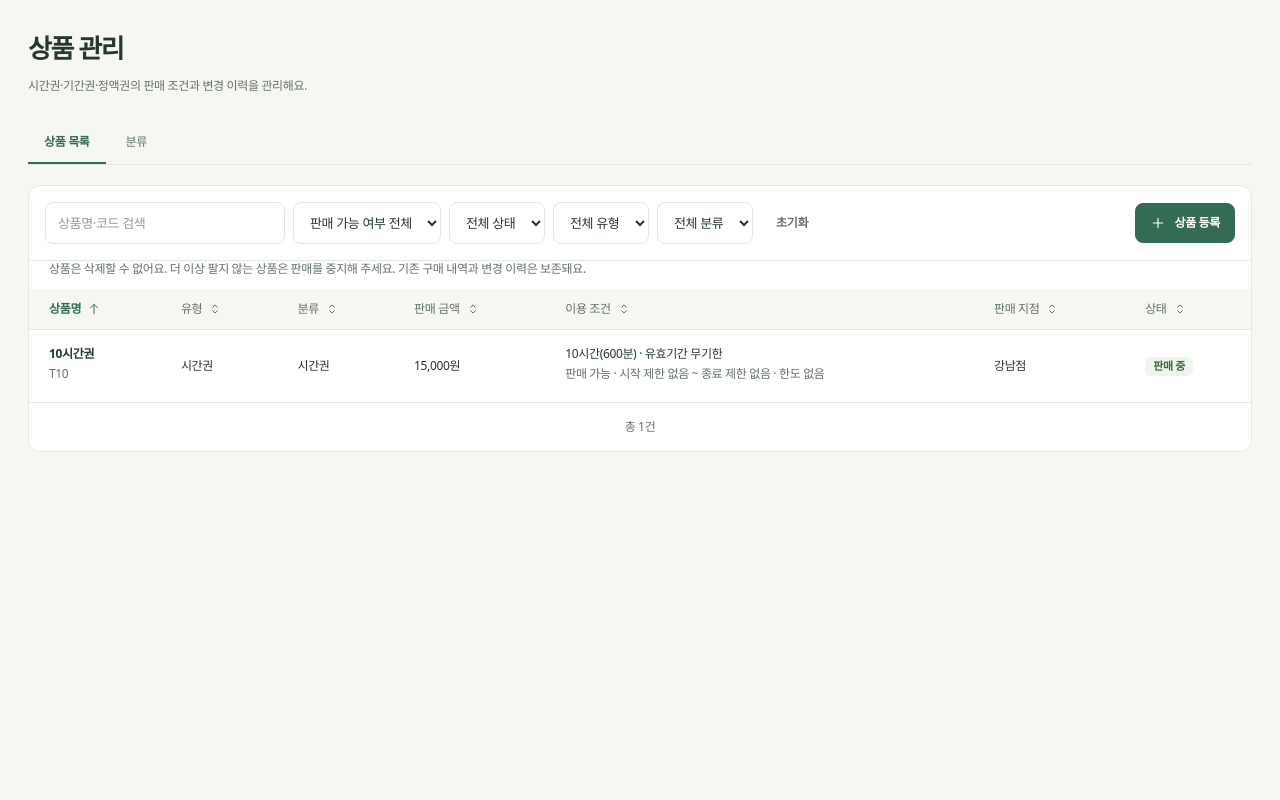
Test case: lets a writer edit but leaves sale status, branches and history to managers
The width and height of the screenshot is (1280, 800).
Click the button "10시간권". click: (72, 354)
box: [49,346,94,362]
(page scrolled)
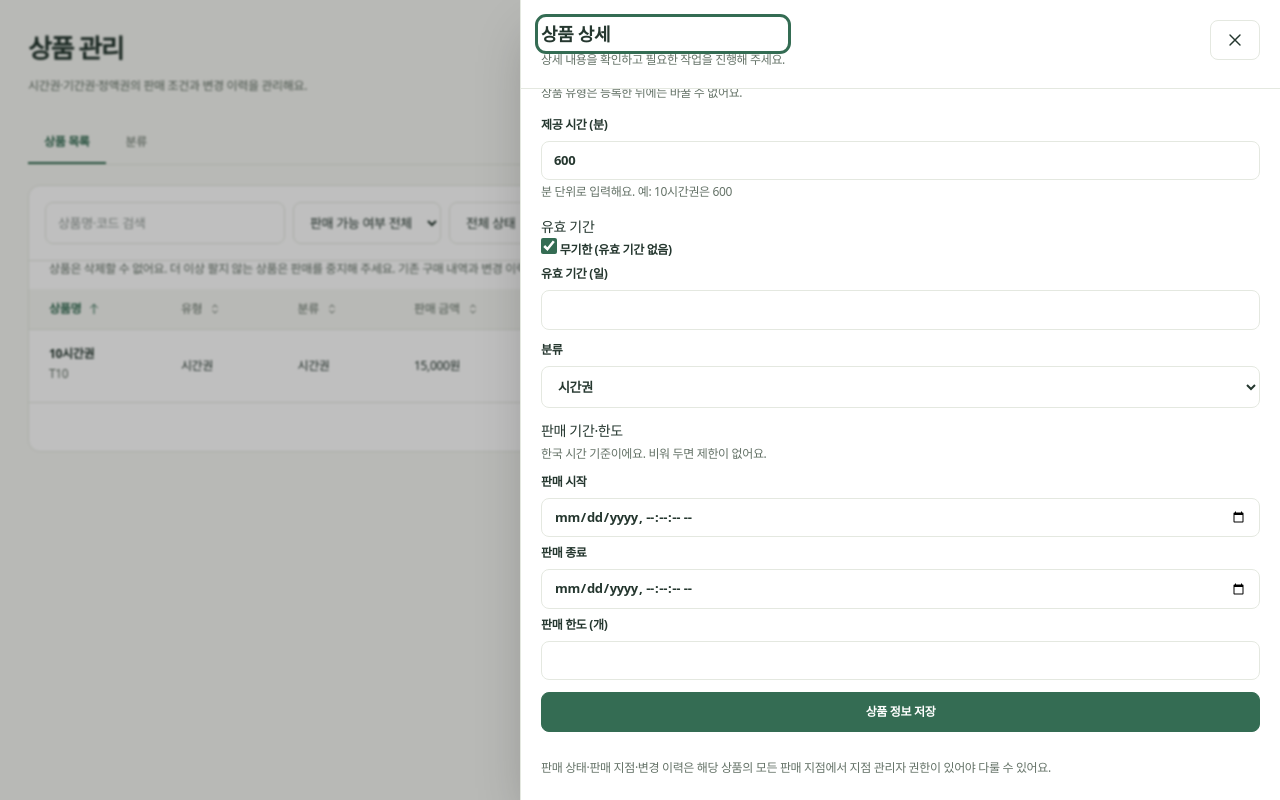
Check: the button "상품 정보 저장" is shown, box [541,692,1260,732]
Check: the text "지점 관리자 권한" is shown, box [541,759,1051,776]
